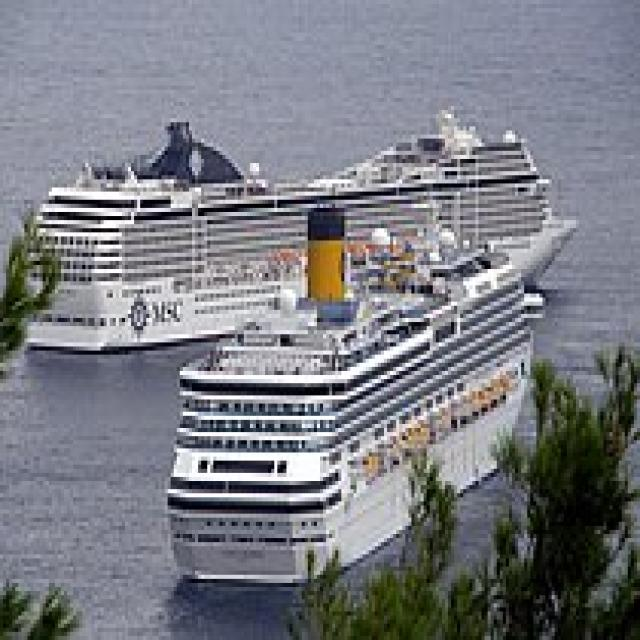Cruise: (162, 200, 542, 583), (12, 98, 576, 350)
